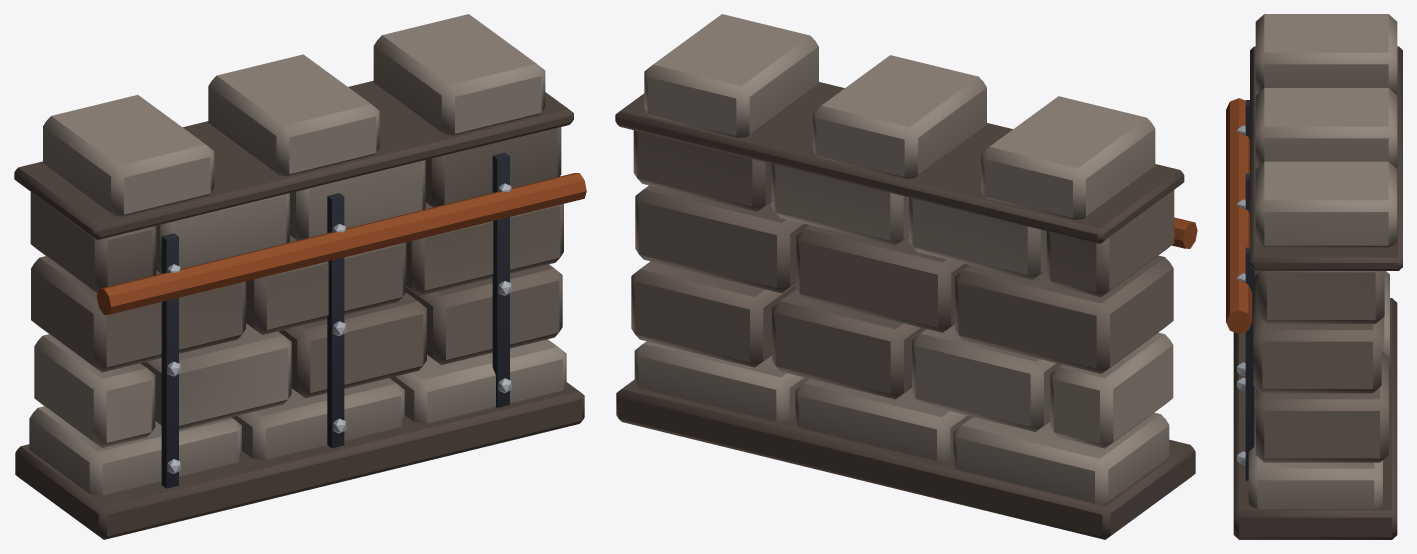
The model's file is mt_wall_4.glb.
The picture shows the model from 3 angles, left to right: view 1: azimuth 30°, elevation 25°; view 2: azimuth 150°, elevation 25°; view 3: azimuth 270°, elevation 25°; orthographic projection. The views are drawn at different scales.
Visible parts, largest first — view 1: body; view 2: body; view 3: body.
Boxes of the visible parts, x1=… form: body: x1=14, y1=14, x2=586, y2=539; body: x1=615, y1=14, x2=1197, y2=539; body: x1=1226, y1=14, x2=1402, y2=539.
Bounding box in the file's own units: 4.7 × 3.3 × 1.62.
